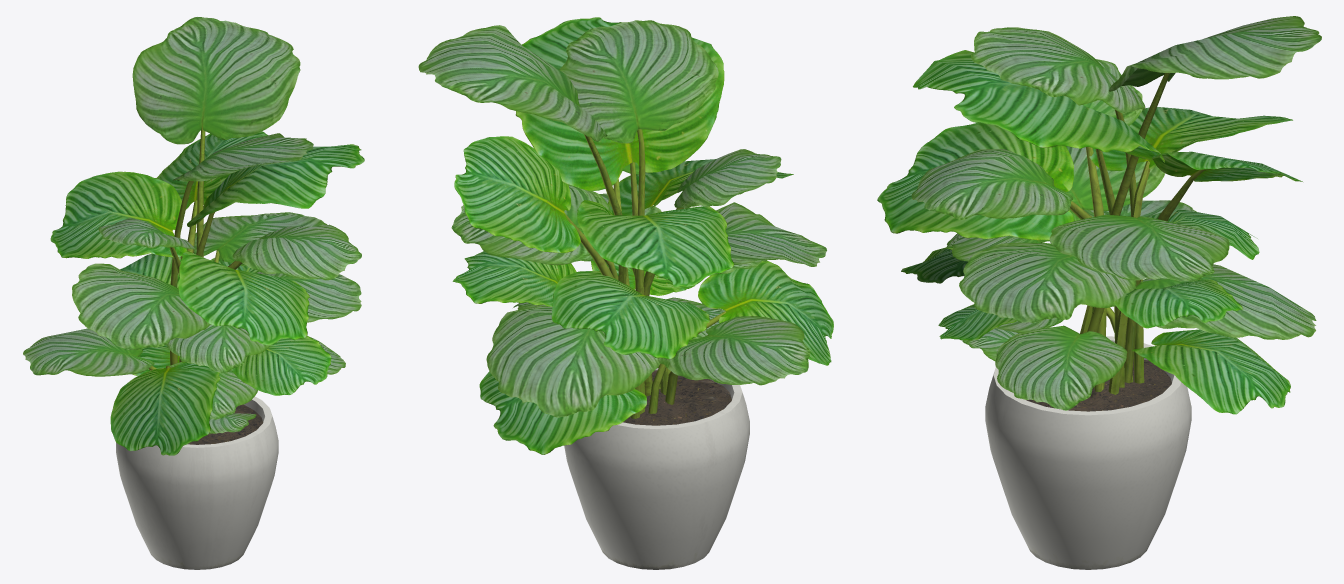
The model's file is PotPlant_01.fbx.
The picture shows the model from 3 angles, left to right: view 1: azimuth 30°, elevation 25°; view 2: azimuth 150°, elevation 25°; view 3: azimuth 270°, elevation 25°; orthographic projection. The views are drawn at different scales.
Parts seen in each view (by area): view 1: PotPlant_01; view 2: PotPlant_01; view 3: PotPlant_01.
Part boxes in pixels (left/top/right/bottom): PotPlant_01: left=23, top=17, right=364, bottom=569; PotPlant_01: left=418, top=17, right=833, bottom=569; PotPlant_01: left=877, top=16, right=1321, bottom=569.
Size of the model in its own units: 108 by 151 by 113.
